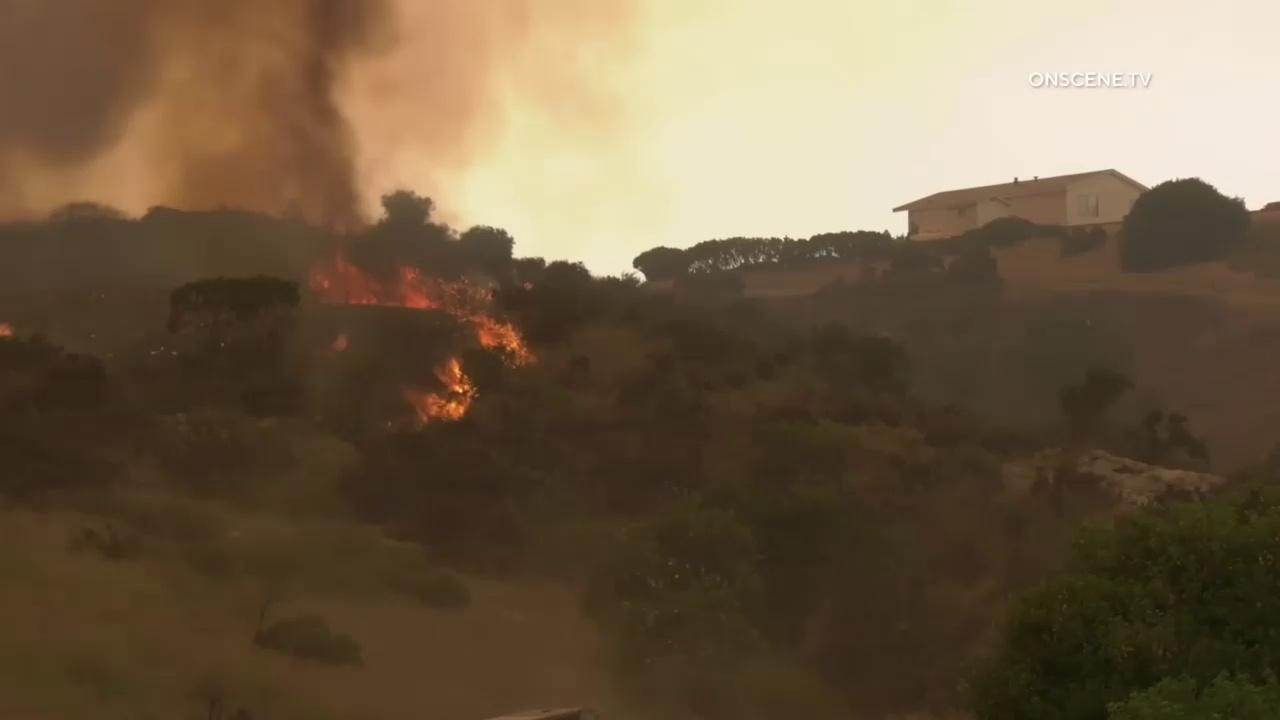fire: (308, 249, 541, 367), (401, 356, 480, 435), (328, 332, 349, 354), (0, 319, 15, 337)
smoke: (0, 0, 652, 446)
